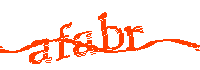a: (72, 30, 97, 58), (29, 38, 51, 64)
b: (97, 12, 124, 52)
f: (53, 21, 74, 62)
r: (123, 23, 143, 54)
